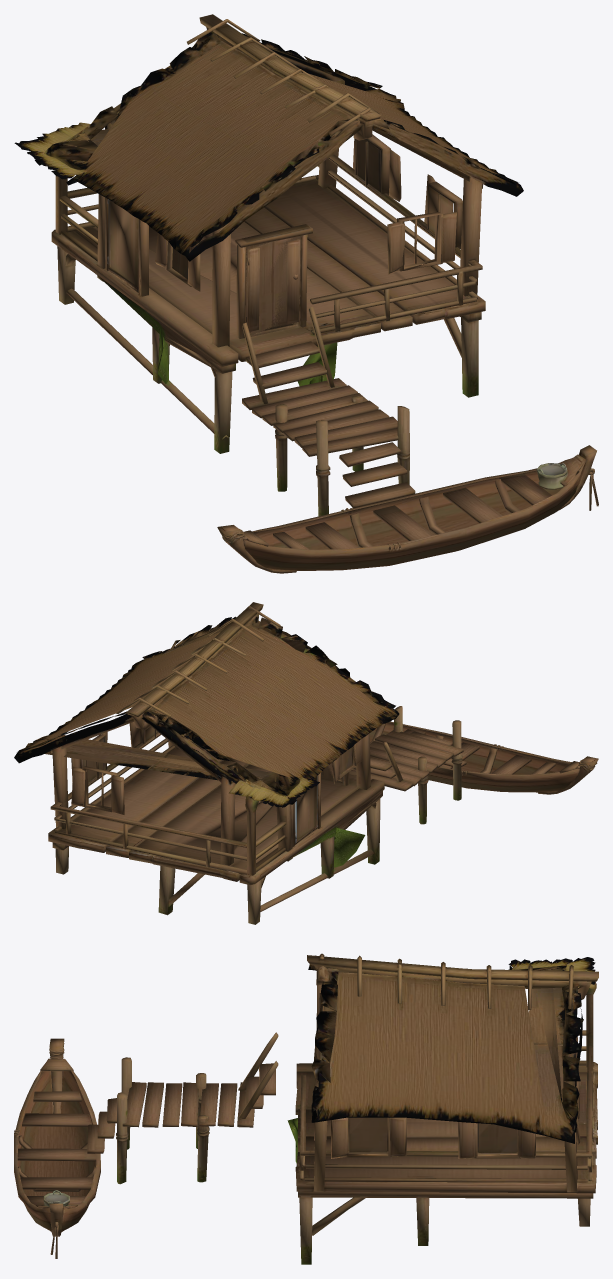
The model's file is 019e3f09-a54b-7df9-bb75-30d7ba212aca.glb.
3 renders of one model, top to bottom at view 1: azimuth 30°, elevation 25°; view 2: azimuth 150°, elevation 25°; view 3: azimuth 270°, elevation 25°, orthographic. The views are drawn at different scales.
Visible parts, largest first — view 1: tripo_node_78e02743-ded1-41b5-b170-bf943596f8e9; view 2: tripo_node_78e02743-ded1-41b5-b170-bf943596f8e9; view 3: tripo_node_78e02743-ded1-41b5-b170-bf943596f8e9.
Boxes of the visible parts, bbox=[...] form: tripo_node_78e02743-ded1-41b5-b170-bf943596f8e9: bbox=[14, 14, 598, 573]; tripo_node_78e02743-ded1-41b5-b170-bf943596f8e9: bbox=[14, 602, 598, 924]; tripo_node_78e02743-ded1-41b5-b170-bf943596f8e9: bbox=[14, 953, 598, 1264].
Bounding box in the file's own units: 0.7988 × 0.5137 × 0.998.
Materials: 1 (1 with a texture image).
